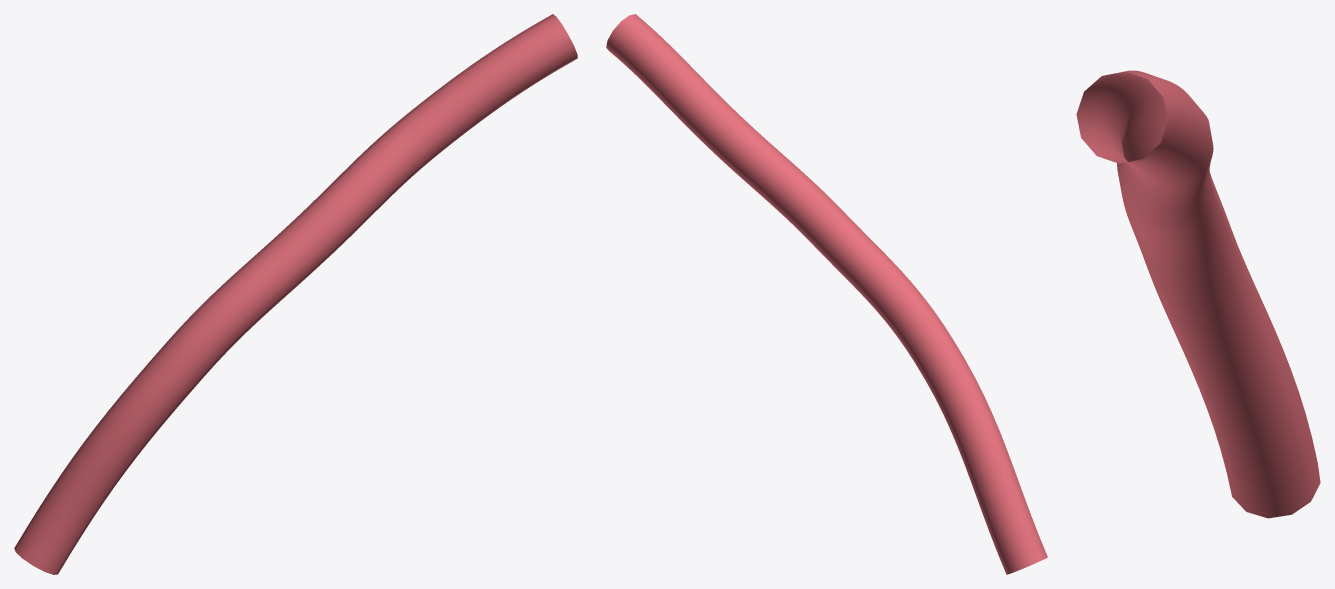
3 renders of one model, left to right at view 1: azimuth 30°, elevation 25°; view 2: azimuth 150°, elevation 25°; view 3: azimuth 270°, elevation 25°, orthographic. The views are drawn at different scales.
Visible parts, largest first — view 1: ZA_a4172b2eba11e679; view 2: ZA_a4172b2eba11e679; view 3: ZA_a4172b2eba11e679.
Part boxes in pixels (x1,y1,x2,y2): ZA_a4172b2eba11e679: [14, 14, 577, 574]; ZA_a4172b2eba11e679: [606, 14, 1047, 574]; ZA_a4172b2eba11e679: [1076, 70, 1320, 518].
Bounding box in the file's own units: 0.0583 × 0.0509 × 0.0132.
